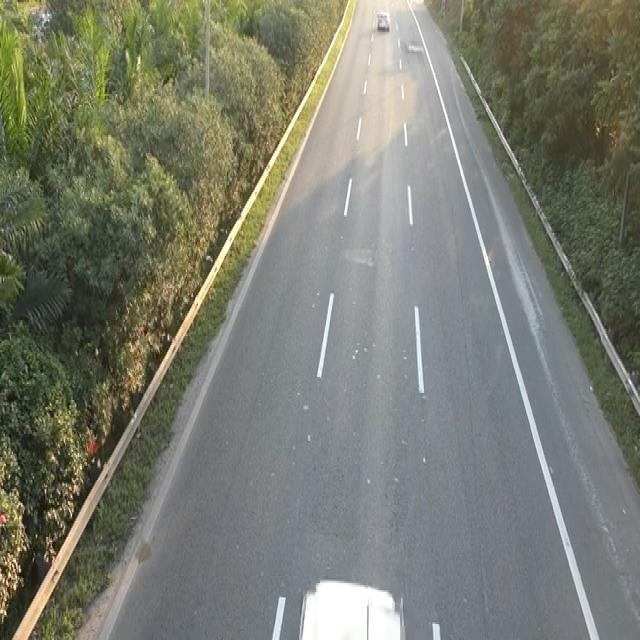bus: (375, 9, 391, 32)
minivan: (294, 572, 408, 636)
